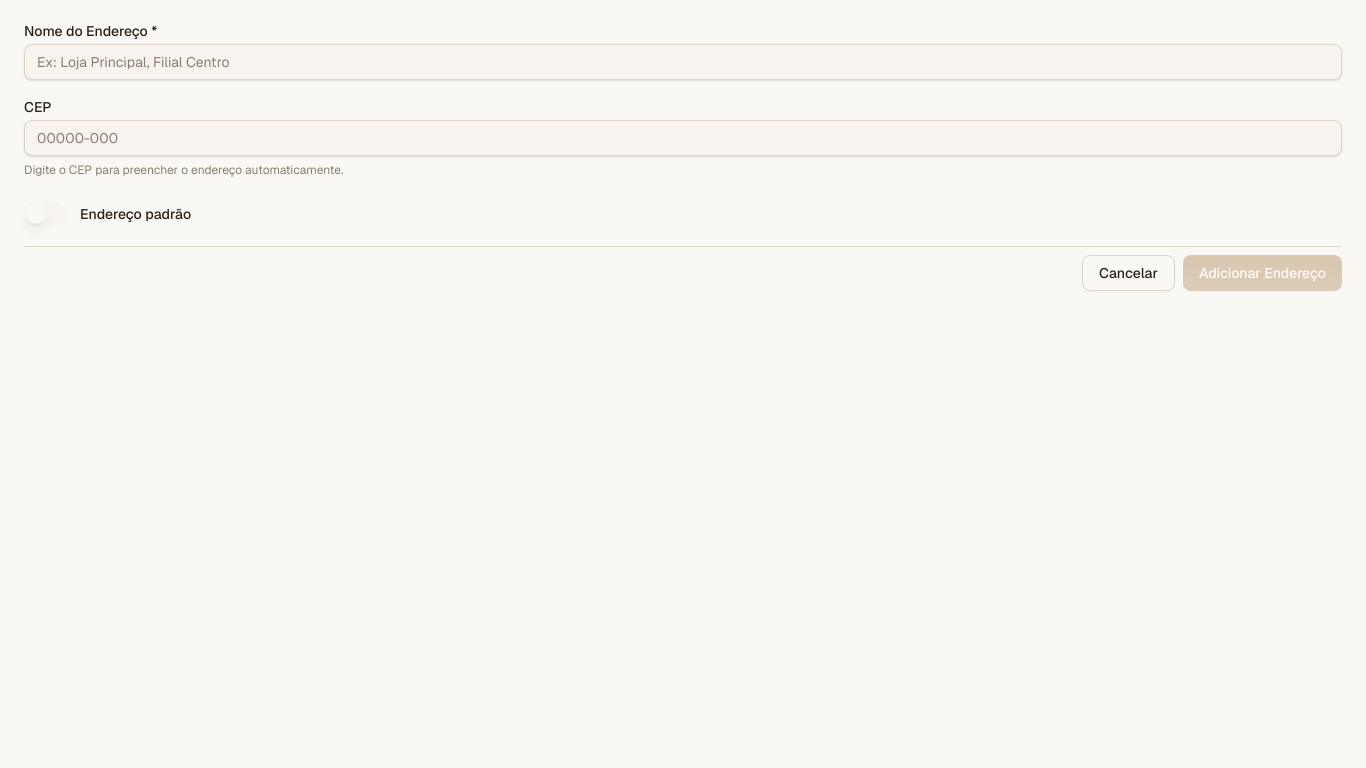
Test: StoreAddressForm › CEP race: a new CEP mid-flight wins over the earlier response
The image size is (1366, 768).
// Type first CEP — fetch fires but will not resolve until we let it.
In the field labelled "CEP": (683, 138) left=24, top=120, right=1342, bottom=156, type "01310100"
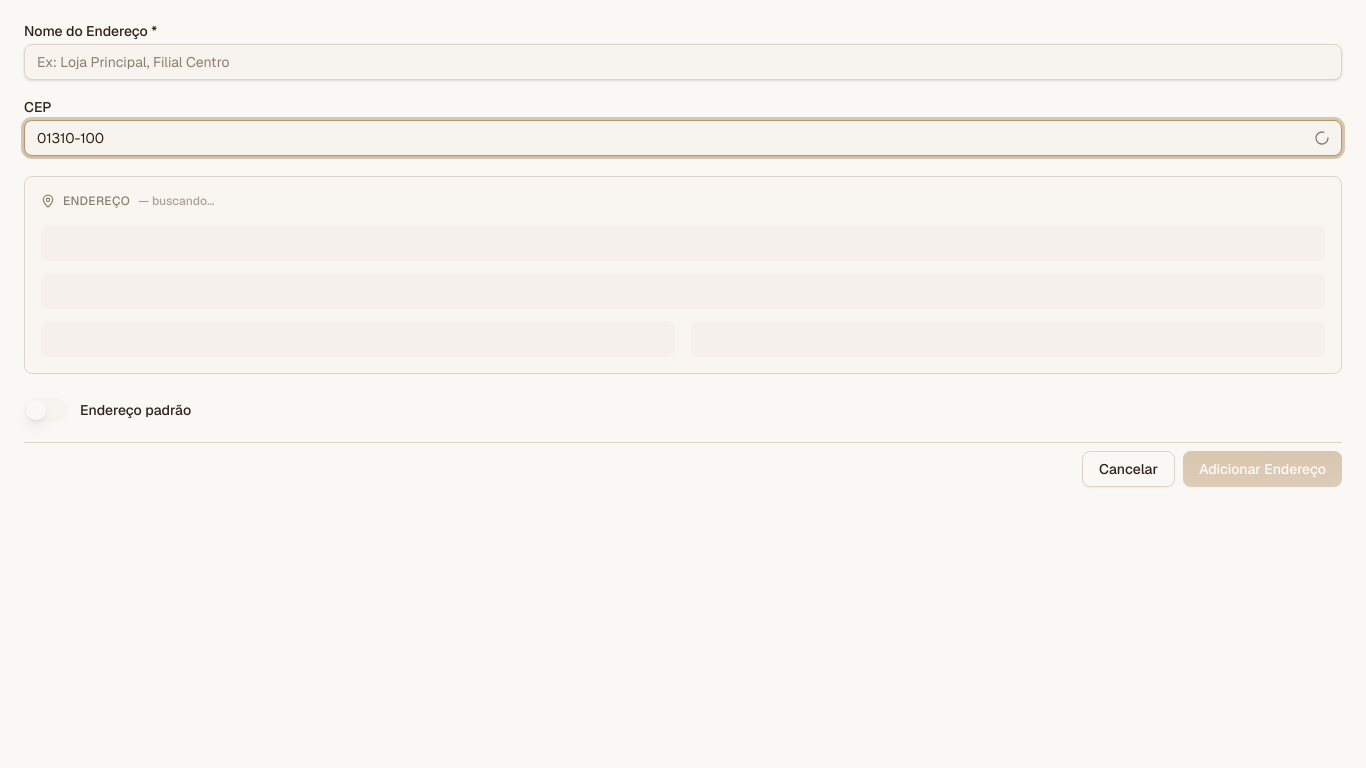
// Replace with a new CEP before the first one resolves.
Replace the text in the field labelled "CEP" with "20040020": (683, 138) left=24, top=120, right=1342, bottom=156
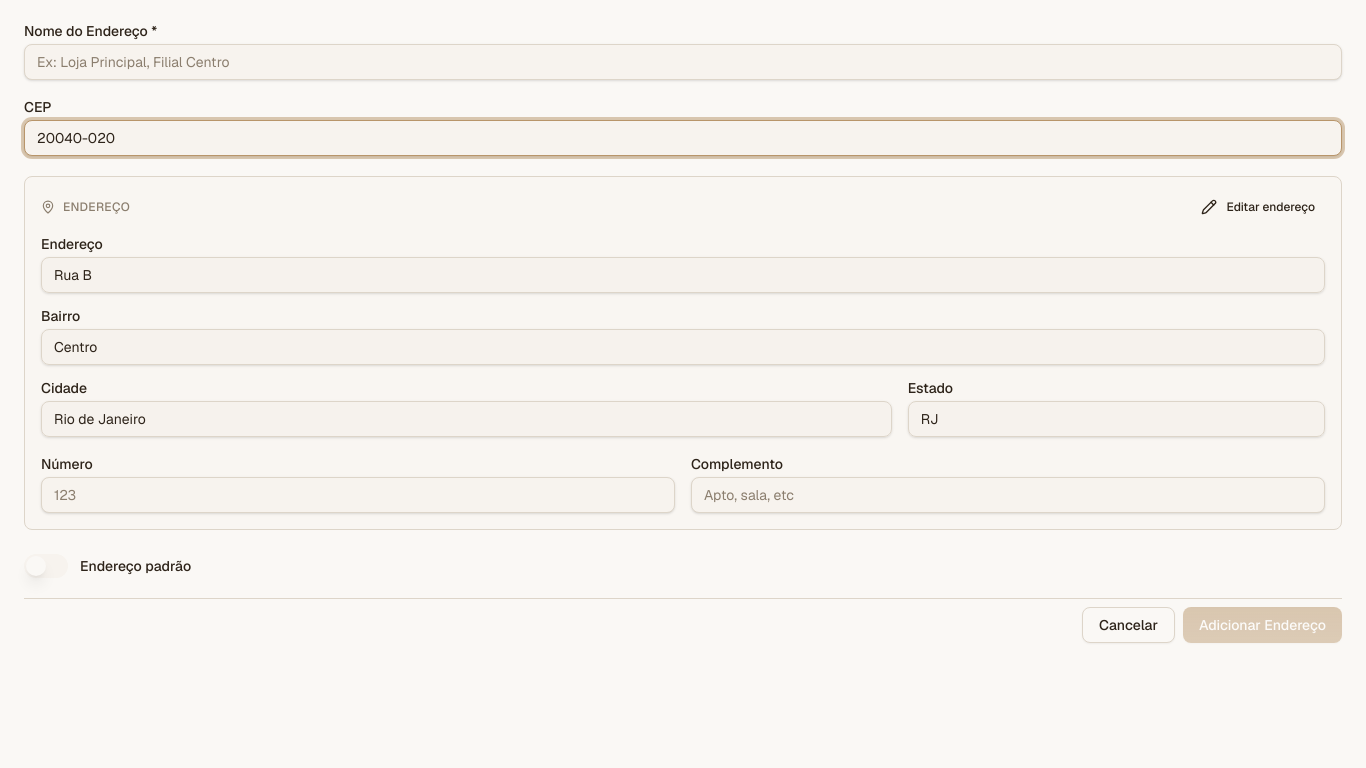
Check: the field labelled "Cidade" holds "Rio de Janeiro", box left=41, top=401, right=892, bottom=437
Check: the field labelled "Estado" holds "RJ", box left=908, top=401, right=1325, bottom=437
Check: the field labelled "Endereço" holds "Rua B", box left=41, top=257, right=1325, bottom=293
